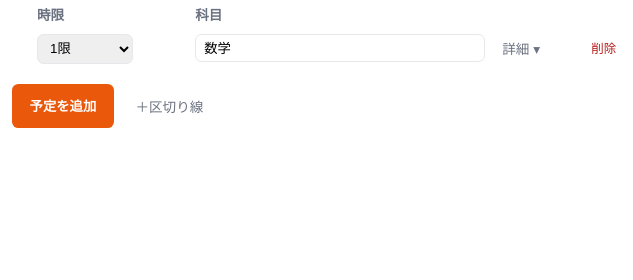
Scenario: 予定 — 任意項目（補足/場所/対象者）を行ごとに畳む › 主役（時限/科目）は常時、任意項目は既定で隠れ、「詳細」で現れる
This screenshot has width=633, height=280.
Expected: the dropdown named "1 行目の時限" is shown, [37, 34, 133, 64]
Expected: the field named "1 行目の科目名" is shown, [195, 34, 485, 62]
Click the button with aria-label "1 行目の詳細項目": [521, 48] box [497, 34, 545, 62]
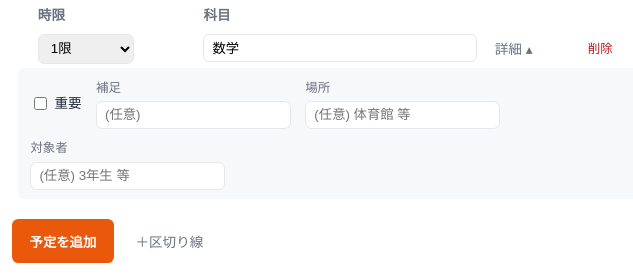
Expected: the field named "1 行目の補足" is shown, [96, 101, 291, 129]
Expected: the field named "1 行目の場所" is shown, [305, 101, 500, 129]
Expected: the field named "1 行目の対象者" is shown, [30, 162, 225, 190]
